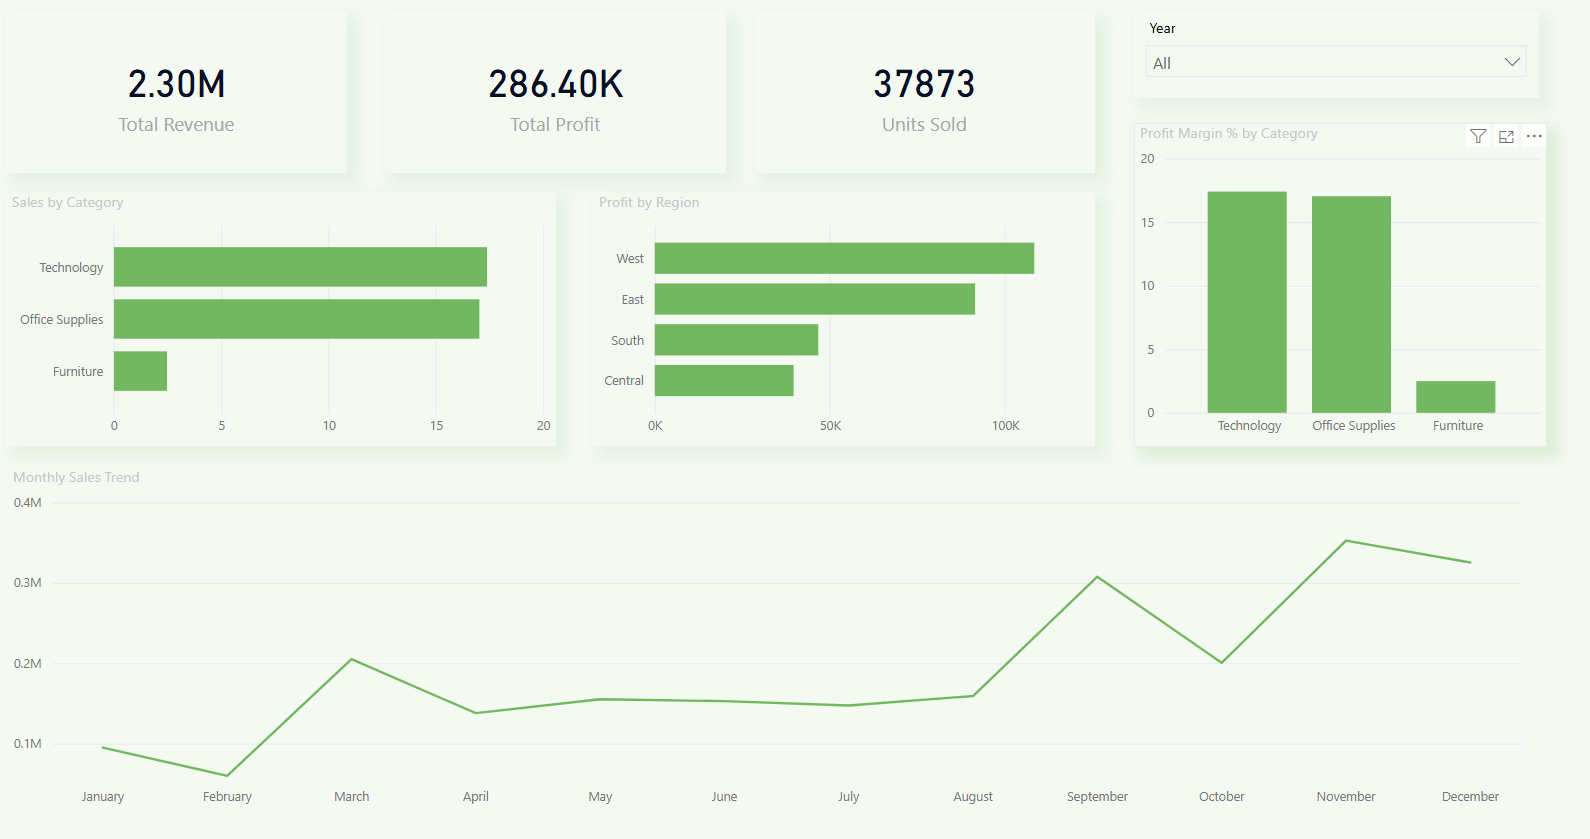

The page's visual inventory and layout, read from the dashboard file:
{"tool":"powerbi","page":{"name":"Page 1","canvas":[1350,720],"ordinal":0},"visuals":[{"type":"card","fields":{"Values":["Sum(Sample - Superstore.Sales)"]},"box":[8,16,288,136],"z":0},{"type":"card","fields":{"Values":["Sum(Sample - Superstore.Profit)"]},"box":[328,16,288,136],"z":1000},{"type":"card","fields":{"Values":["Sum(Sample - Superstore.Quantity)"]},"box":[640,16,288,136],"z":2000},{"type":"slicer","fields":{"Values":["Sample - Superstore.Year"]},"box":[982.5,16.4,287.5,72.8],"z":3000},{"type":"barChart","title":"Sales by Category","fields":{"Category":["Sample - Superstore.Category"],"Y":["Sample - Superstore.Profit Margin %"]},"box":[7.6,168.2,464.8,215.5],"z":4000},{"type":"barChart","title":"Profit by Region","fields":{"Category":["Sample - Superstore.Region"],"Y":["Sum(Sample - Superstore.Profit)"]},"box":[503.7,168.2,424.2,215.5],"z":5000},{"type":"lineChart","title":"Monthly Sales Trend","fields":{"Category":["Sample - Superstore.Order Date.Variation.Date Hierarchy.Month"],"Y":["Sum(Sample - Superstore.Sales)"]},"box":[8.2,400.3,1283.6,296.6],"z":6000},{"type":"clusteredColumnChart","fields":{"Category":["Sample - Superstore.Category"],"Y":["Sample - Superstore.Profit Margin %"]},"box":[960.6,109.9,349.4,273.9],"z":7000}]}

Visuals, with their boxes in screenshot pixels (x1, y1, x2, y2), scaled from the page's 1350x720 canvas onto the 1590x839 screenshot:
card - Sum(Sample - Superstore.Sales): 9,19,349,177
card - Sum(Sample - Superstore.Profit): 386,19,726,177
card - Sum(Sample - Superstore.Quantity): 754,19,1093,177
slicer - Sample - Superstore.Year: 1157,19,1496,104
"Sales by Category" barChart: 9,196,556,447
"Profit by Region" barChart: 593,196,1093,447
"Monthly Sales Trend" lineChart: 10,466,1521,812
clusteredColumnChart - Sample - Superstore.Category x Sample - Superstore.Profit Margin %: 1131,128,1543,447
